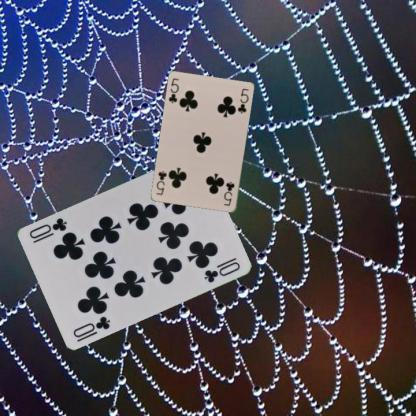10c: (70, 313, 112, 339)
5c: (221, 179, 236, 207), (166, 76, 180, 104)
